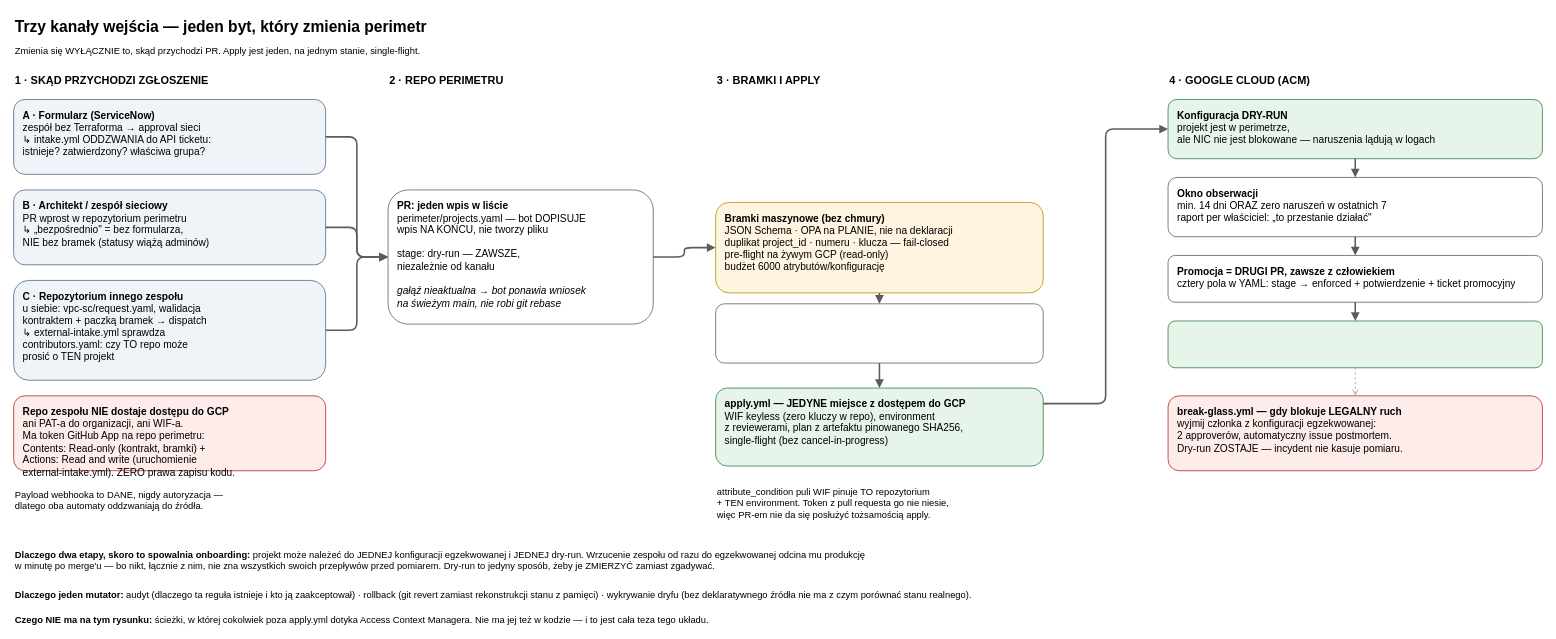
Some shapes in this 1556 by 639 pixel diagram are drawn without their labels. Each missing label, with the centre of its shape:
"Konfiguracja EGZEKWOWANA od tej chwili perimetr realnie blokuje" belongs at (1354,344).
"Merge auto tylko dla zmian addytywnych; reszta — człowiek (sieć + security)" belongs at (879,333).
